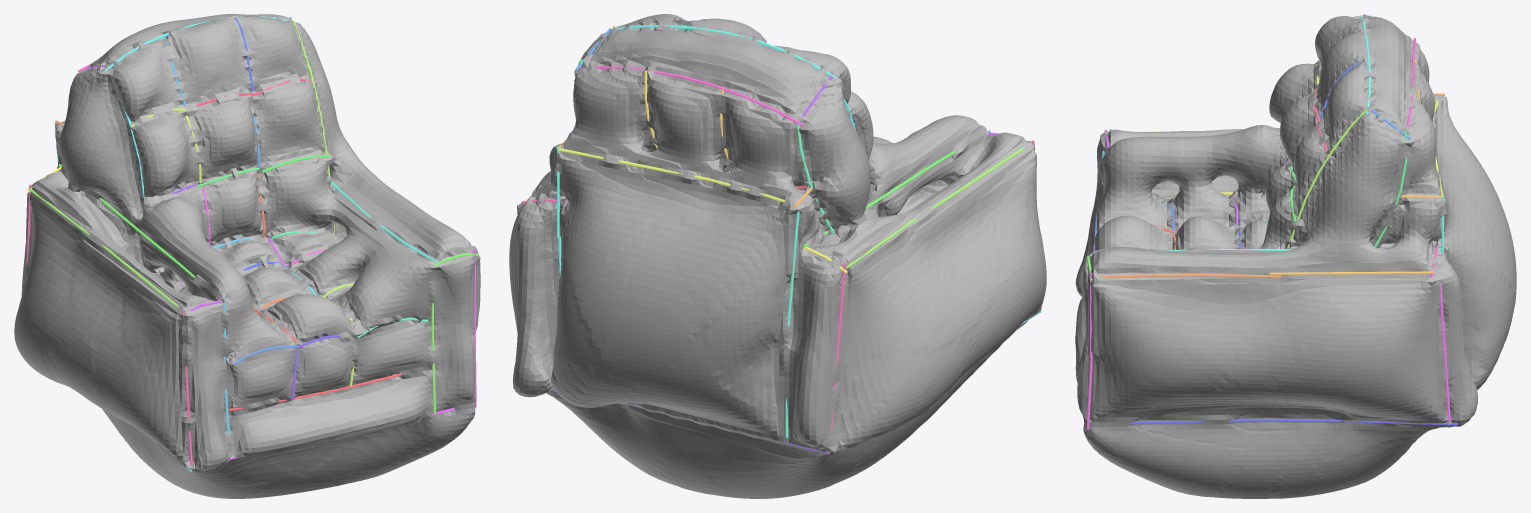
Rendered from author2_sofa.gltf.
3 renders of one model, left to right at view 1: azimuth 30°, elevation 25°; view 2: azimuth 150°, elevation 25°; view 3: azimuth 270°, elevation 25°, orthographic. The views are drawn at different scales.
Bounding box in the file's own units: 0.6946 × 0.7217 × 0.7235.
